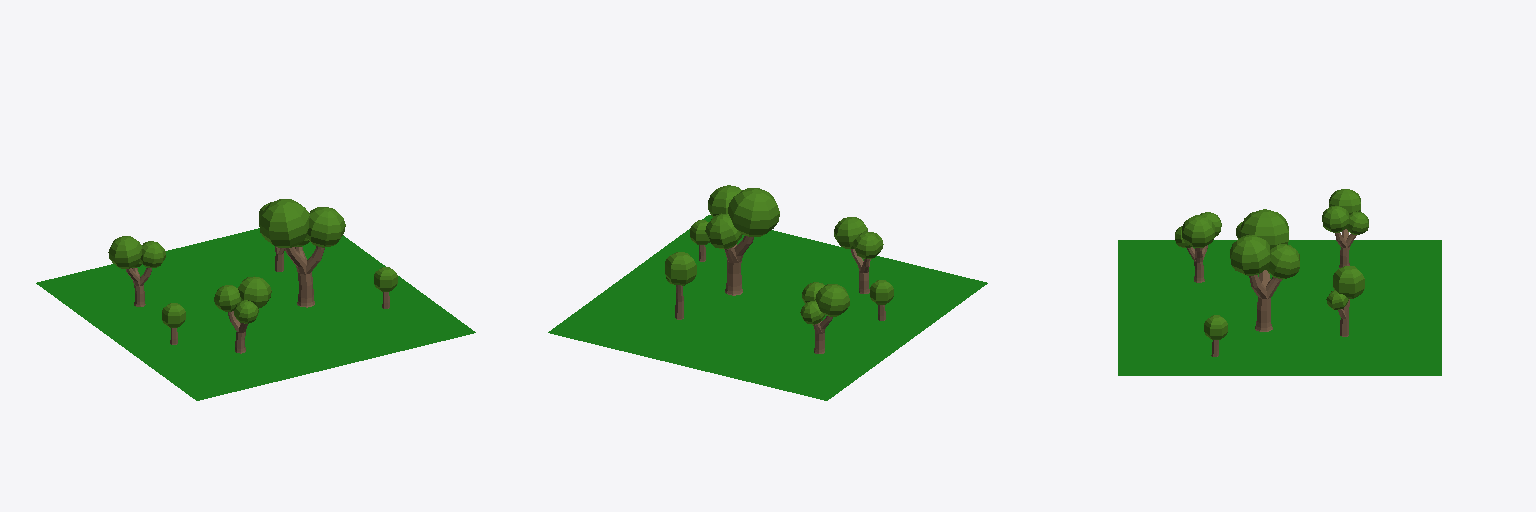
The model's file is woods.obj.
3 renders of one model, left to right at view 1: azimuth 30°, elevation 25°; view 2: azimuth 150°, elevation 25°; view 3: azimuth 270°, elevation 25°, orthographic.
Visible parts, largest first — view 1: mergedBlocks; view 2: mergedBlocks; view 3: mergedBlocks.
Part boxes in pixels (left/top/right/bottom): mergedBlocks: left=36, top=199, right=475, bottom=400; mergedBlocks: left=548, top=185, right=987, bottom=400; mergedBlocks: left=1118, top=189, right=1441, bottom=375.
Bounding box in the file's own units: 20 × 7.49 × 20.